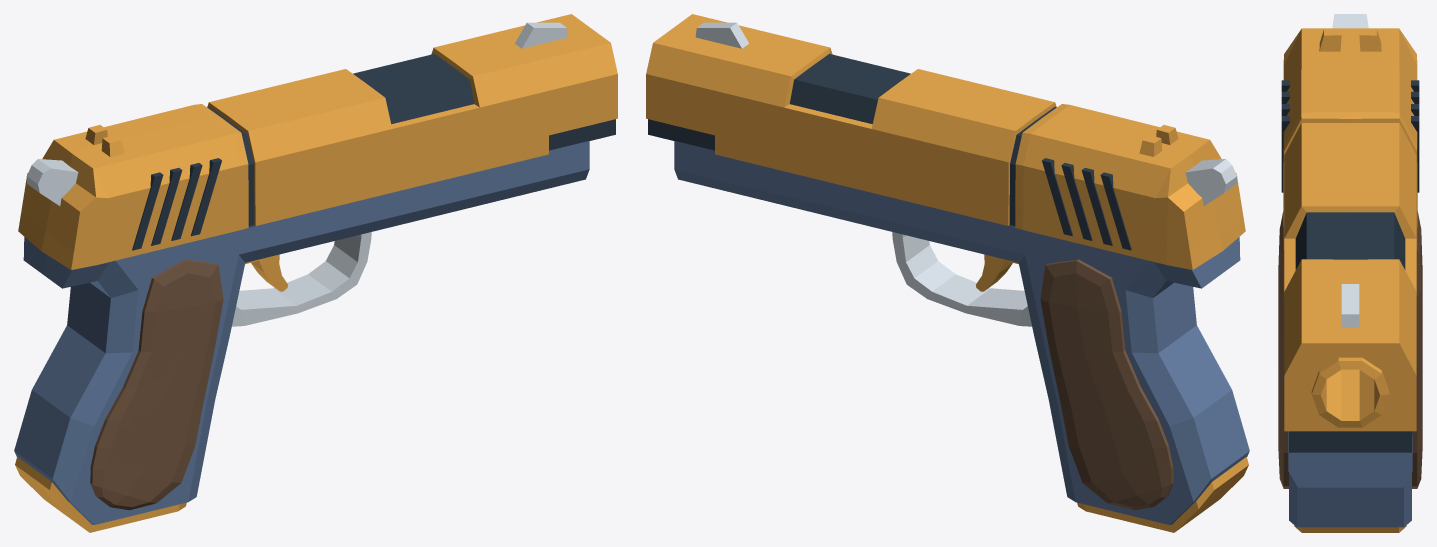
File: sidearm.glb
3 renders of one model, left to right at view 1: azimuth 30°, elevation 25°; view 2: azimuth 150°, elevation 25°; view 3: azimuth 270°, elevation 25°, orthographic. The views are drawn at different scales.
Visible parts, largest first — view 1: Pistol_1_Cube.204; view 2: Pistol_1_Cube.204; view 3: Pistol_1_Cube.204.
Boxes of the visible parts, box(x1,y1,x2,y2) form: Pistol_1_Cube.204: box(14, 14, 617, 532); Pistol_1_Cube.204: box(646, 14, 1249, 532); Pistol_1_Cube.204: box(1278, 14, 1422, 532).
Size of the model in its own units: 1.82 by 1.16 by 0.3232.
